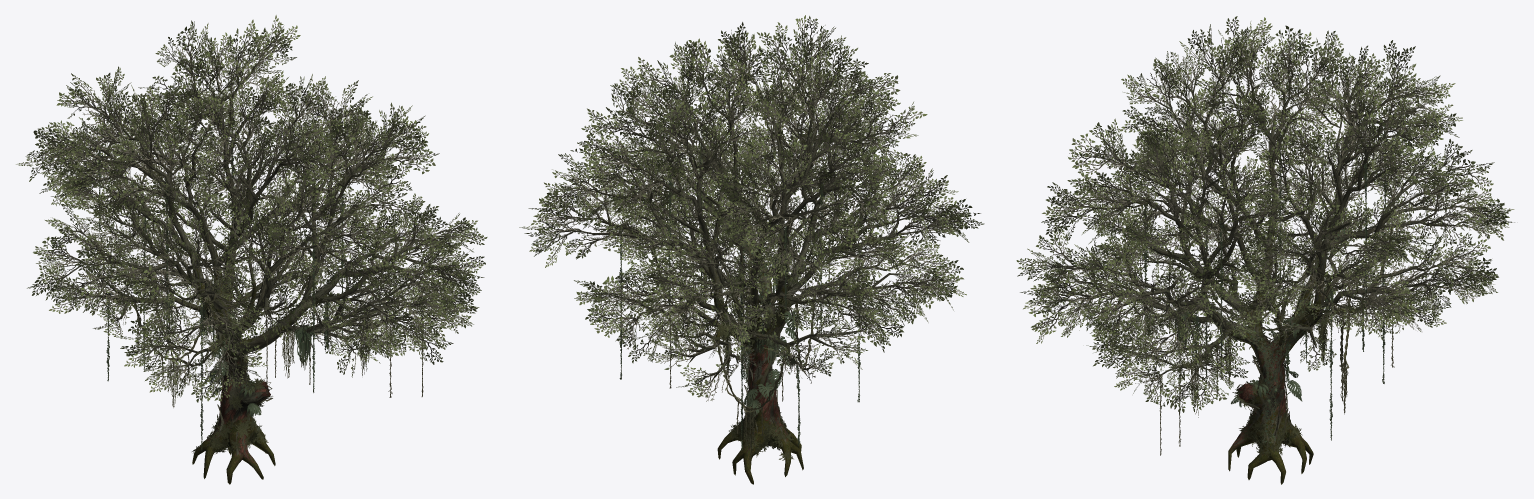
File: ancient-tree-right.glb
3 views of the same model, side by side, from view 1: azimuth 30°, elevation 25°; view 2: azimuth 150°, elevation 25°; view 3: azimuth 270°, elevation 25° (orthographic). The views are drawn at different scales.
Visible parts, largest first — view 1: TreeGen_ClusterB_0, TreeGen_BarkB_0, TreeGen_ClusterB2_0, TreeGen_VinesB_0; view 2: TreeGen_ClusterB_0, TreeGen_BarkB_0, TreeGen_ClusterB2_0, TreeGen_VinesB_0; view 3: TreeGen_ClusterB_0, TreeGen_BarkB_0, TreeGen_ClusterB2_0, TreeGen_VinesB_0.
Boxes of the visible parts, x1=… form: TreeGen_ClusterB_0: x1=16, y1=15, x2=487, y2=402; TreeGen_BarkB_0: x1=48, y1=45, x2=459, y2=484; TreeGen_ClusterB2_0: x1=37, y1=41, x2=458, y2=387; TreeGen_VinesB_0: x1=98, y1=107, x2=423, y2=453; TreeGen_ClusterB_0: x1=519, y1=15, x2=984, y2=397; TreeGen_BarkB_0: x1=547, y1=40, x2=942, y2=484; TreeGen_ClusterB2_0: x1=543, y1=34, x2=957, y2=401; TreeGen_VinesB_0: x1=618, y1=126, x2=880, y2=463; TreeGen_ClusterB_0: x1=1016, y1=16, x2=1514, y2=412; TreeGen_BarkB_0: x1=1045, y1=46, x2=1485, y2=484; TreeGen_ClusterB2_0: x1=1048, y1=39, x2=1495, y2=395; TreeGen_VinesB_0: x1=1140, y1=108, x2=1402, y2=459.
Bounding box in the file's own units: 21.13 × 22.48 × 24.06.
4 materials, 4 textured.
